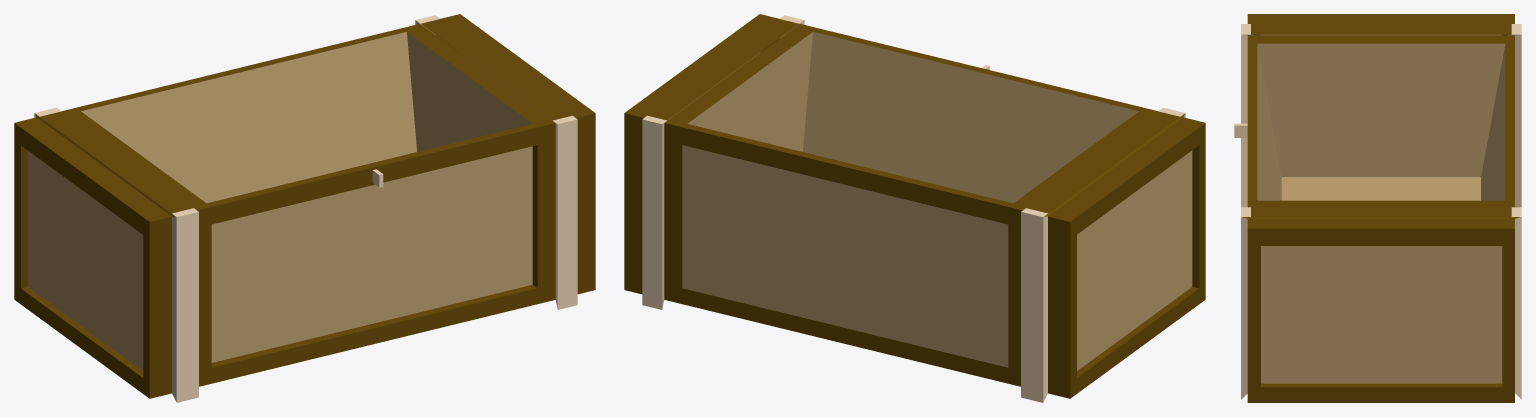
The model's file is chest-bottom.fbx.
3 views of the same model, side by side, from view 1: azimuth 30°, elevation 25°; view 2: azimuth 150°, elevation 25°; view 3: azimuth 270°, elevation 25° (orthographic).
Visible parts, largest first — view 1: Chest_Bottom; view 2: Chest_Bottom; view 3: Chest_Bottom.
Boxes of the visible parts, bbox=[...] form: Chest_Bottom: bbox=[14, 14, 595, 402]; Chest_Bottom: bbox=[624, 14, 1205, 402]; Chest_Bottom: bbox=[1234, 14, 1521, 402].
Size of the model in its own units: 0.9921 by 0.3949 by 0.5618.
